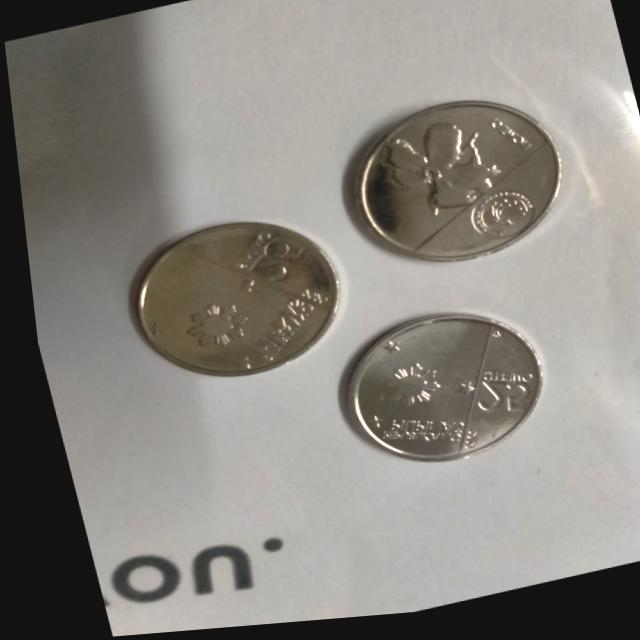25Cent_New_Back: (365, 110, 550, 267)
25Cent_New_Front: (148, 229, 328, 392), (344, 333, 552, 473)
